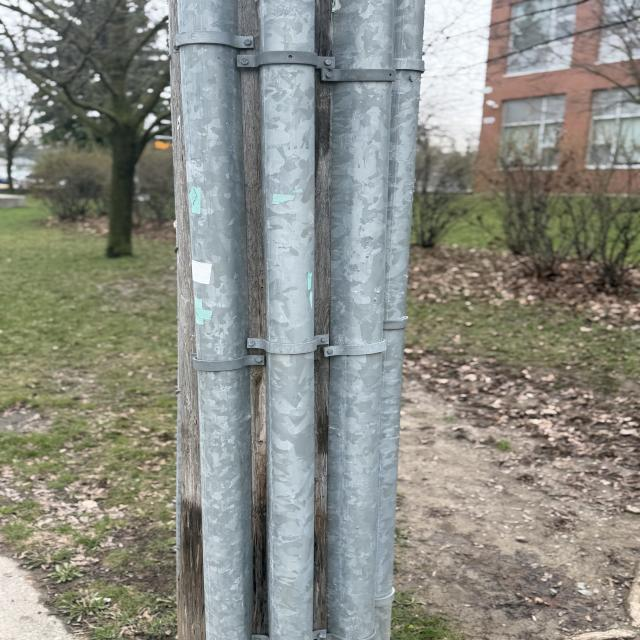Electrical Pole: (164, 1, 429, 639)
